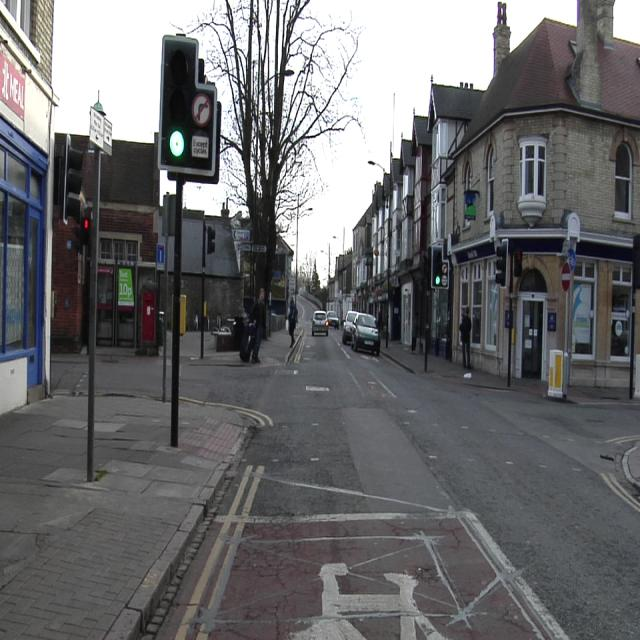Building: (333, 0, 639, 385), (1, 2, 92, 412), (98, 140, 158, 352), (205, 217, 244, 329), (181, 208, 204, 329)
Car: (353, 314, 379, 354), (312, 311, 328, 335), (329, 311, 339, 327)
Road: (152, 328, 636, 639)
Tree: (188, 3, 361, 290)
person: (251, 290, 265, 361), (460, 309, 471, 367), (288, 298, 298, 346)
